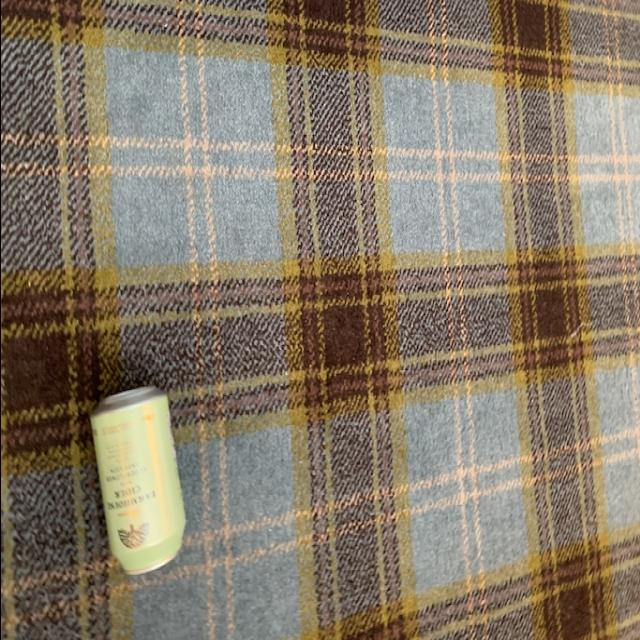Aluminum Can: (90, 381, 186, 585)
